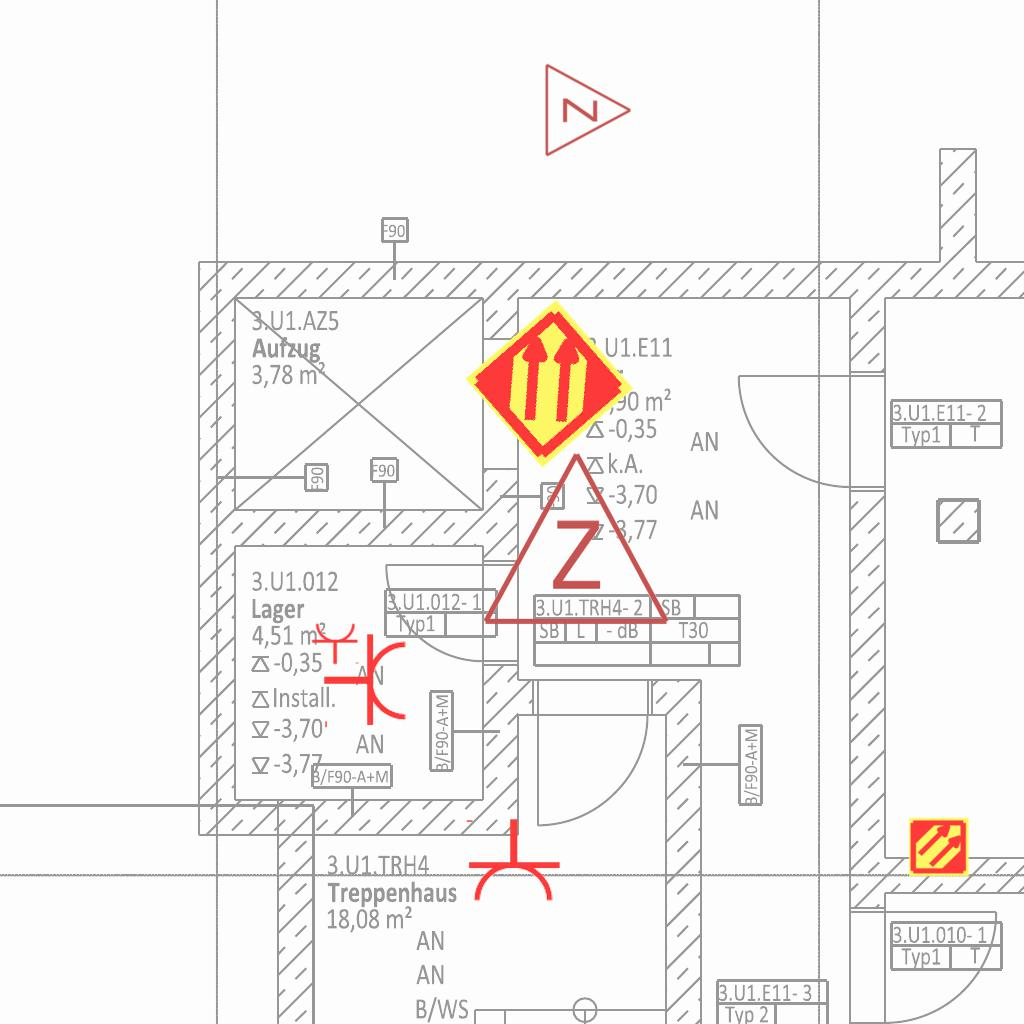ASR_Ansaugrauchmelder: (461, 295, 638, 472), (908, 816, 970, 878)
Schukosteckdose_einfach: (462, 817, 562, 904), (322, 632, 409, 732), (311, 622, 361, 665)
Zimmersignalleuchte: (476, 439, 672, 639), (538, 60, 638, 158)
